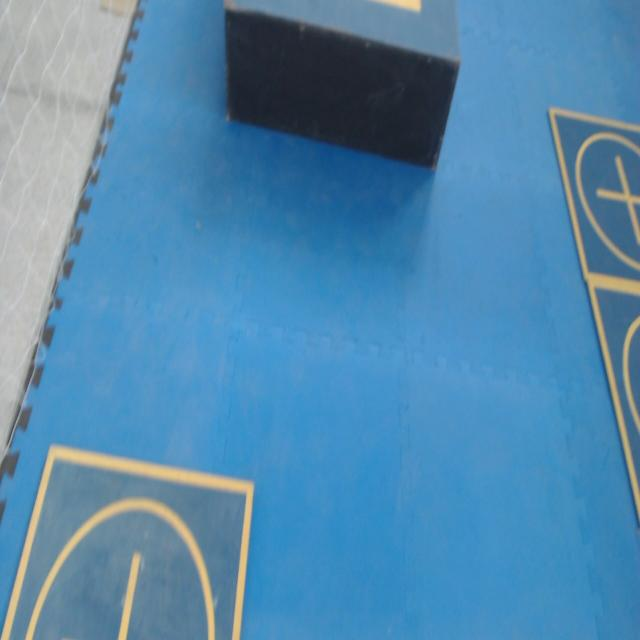base_pouso: (0, 440, 256, 639), (547, 106, 640, 288), (587, 280, 640, 530)
